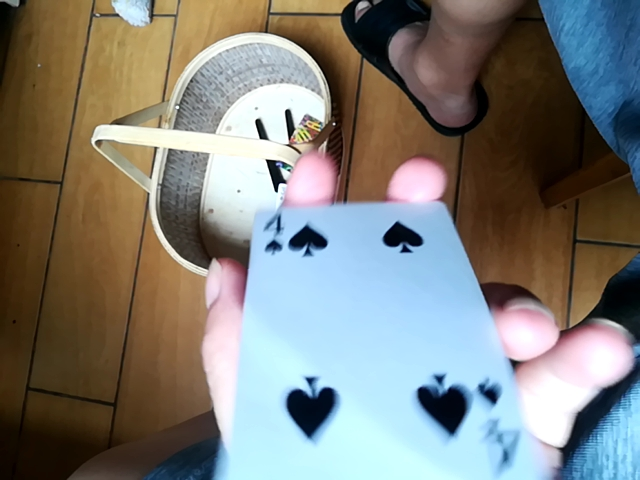ht 4: (217, 194, 573, 478)
